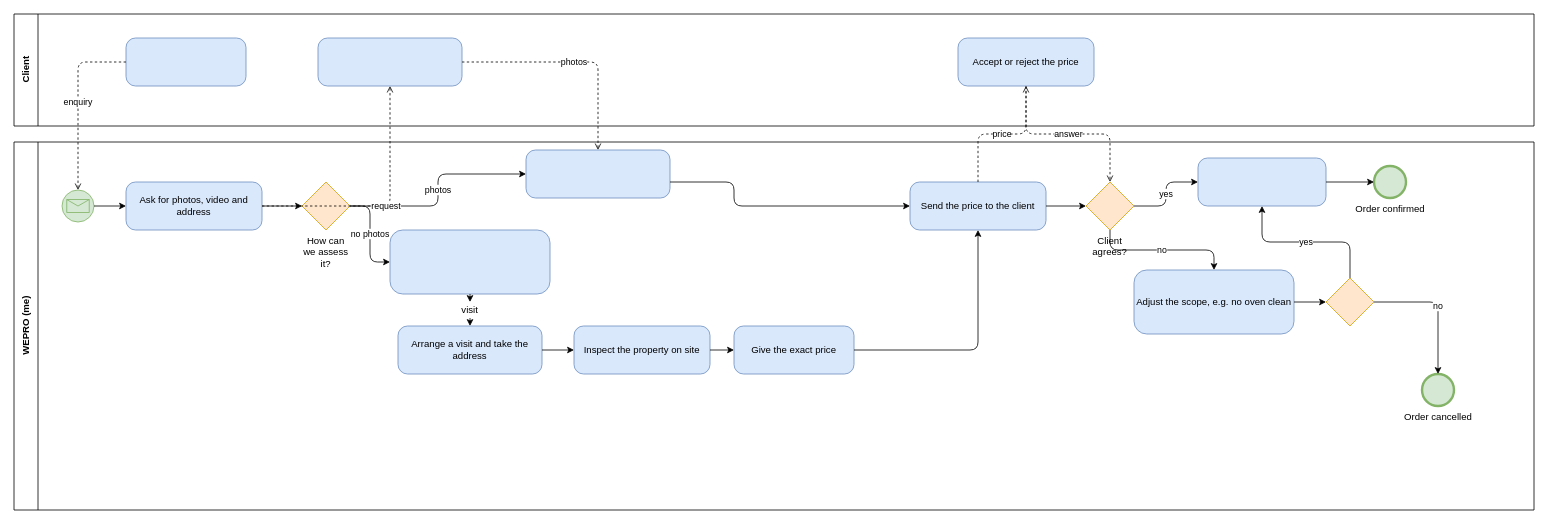
Image size: 1548x524. Some labels were removed from this diagram. Each missing label, with the centre of its shape:
Agree date and time: the point at 1261,181
Agreed now?: the point at 1349,301
Enquiry received: the point at 77,205
Estimate the price from photos or video: the point at 597,173
Give an approximate price from the description; final price confirmed on site: the point at 469,261
Send enquiry: the point at 185,61
Send photos, video or description: the point at 389,61
